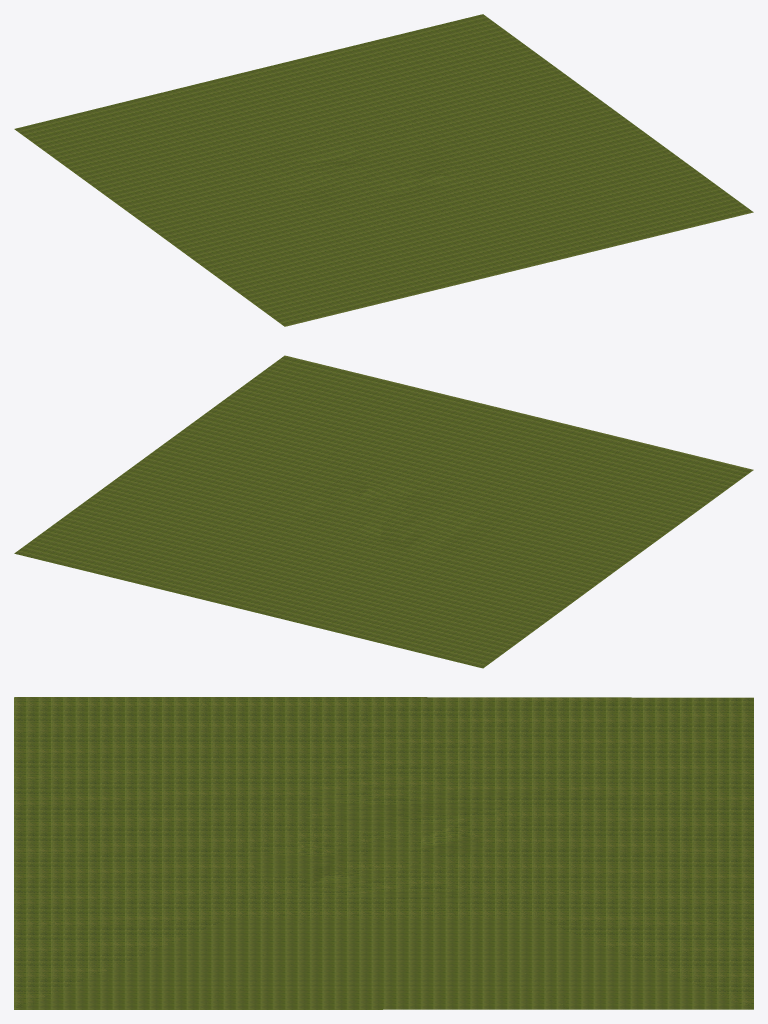
File: Floor_v003.glb
The picture shows the model from 3 angles, top to bottom: view 1: azimuth 30°, elevation 25°; view 2: azimuth 150°, elevation 25°; view 3: azimuth 270°, elevation 25°; orthographic projection. The views are drawn at different scales.
Parts seen in each view (by area): view 1: Floor; view 2: Floor; view 3: Floor.
Part boxes in pixels (<box>): Floor: <box>14,14,753,326</box>; Floor: <box>14,355,753,668</box>; Floor: <box>14,697,753,1009</box>.
Size of the model in its own units: 1059 by 7.04 by 1059.
Materials: 1 (1 with a texture image).
